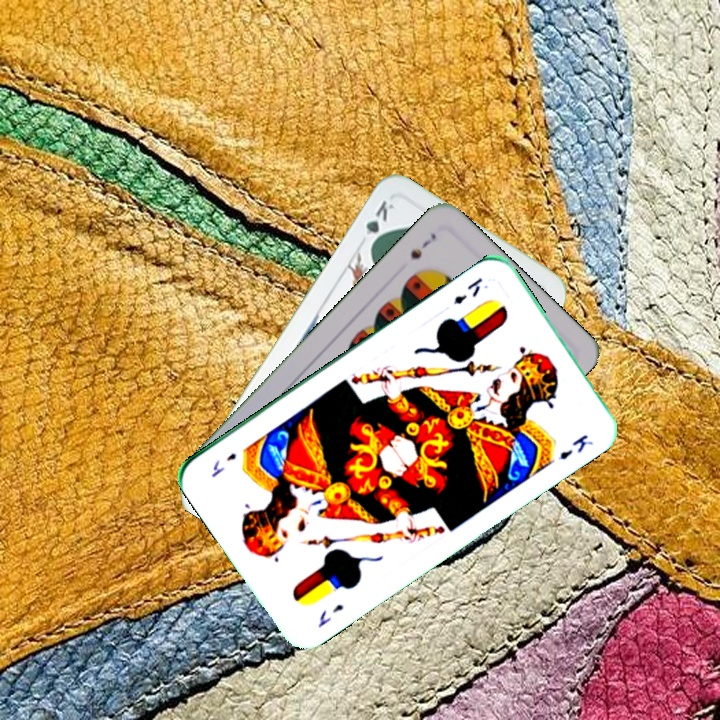EK: (449, 273, 485, 307), (313, 600, 347, 630)
GK: (361, 196, 398, 252)
S7: (406, 229, 439, 262)
